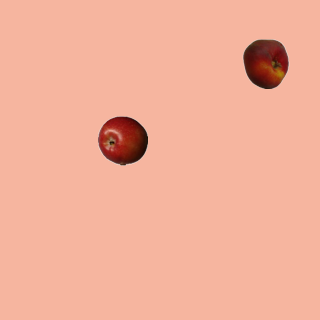Apple Braeburn: (97, 115, 147, 165)
Nectarine Flat: (240, 38, 290, 88)
